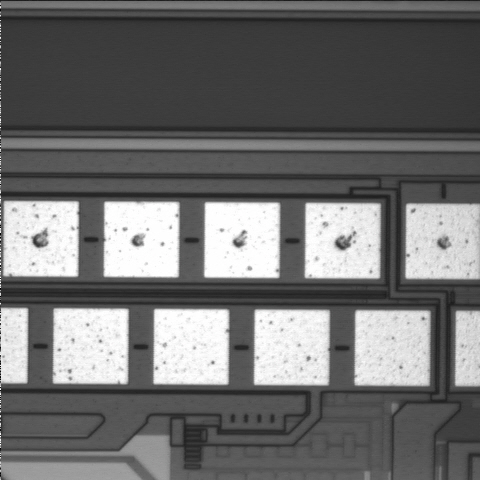pad: (3, 201, 79, 277), (204, 202, 280, 278), (153, 309, 229, 385), (53, 308, 128, 384), (254, 310, 330, 385), (355, 310, 430, 386), (104, 202, 179, 277), (305, 203, 380, 278)
